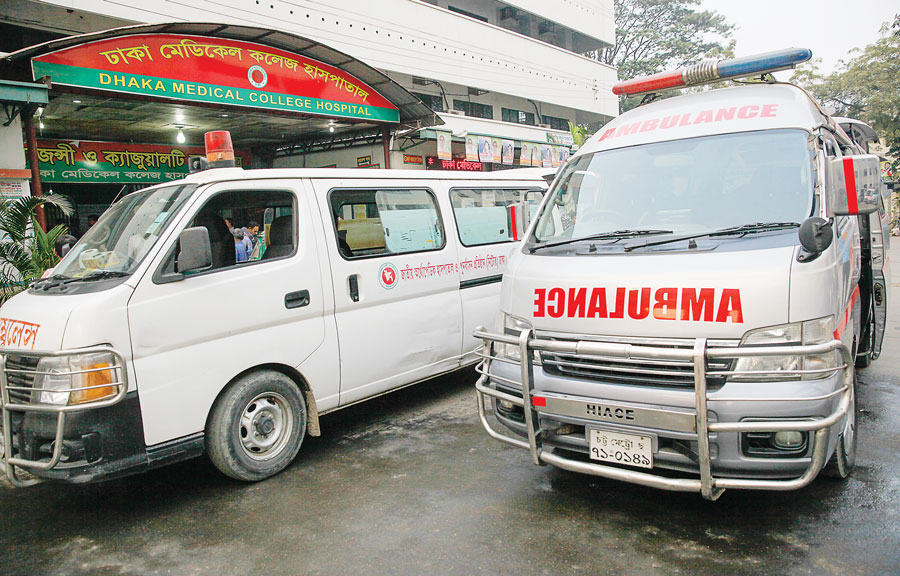ambulance: (1, 130, 559, 486), (473, 46, 888, 499)
